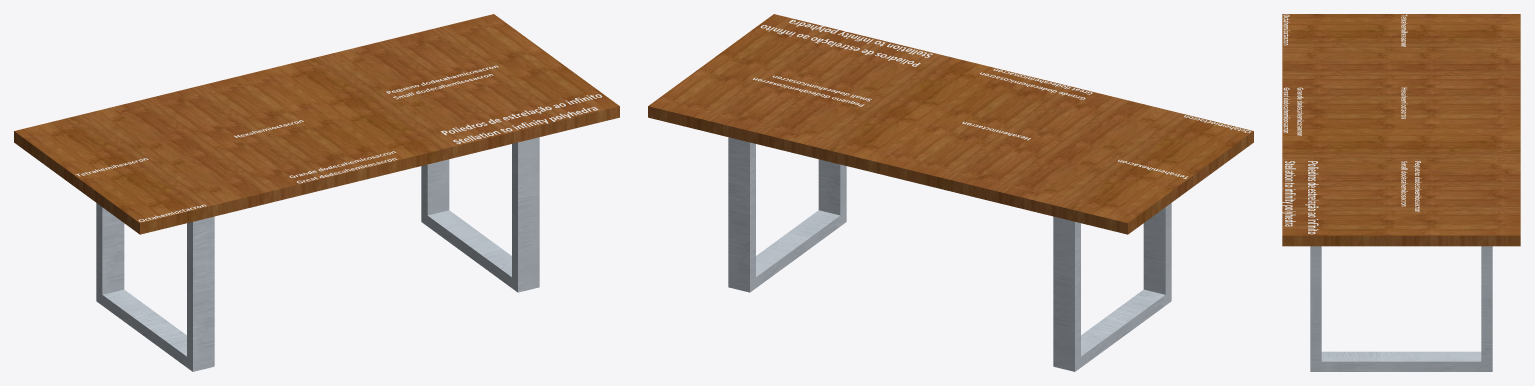
The model's file is infinity1.glb.
3 views of the same model, side by side, from view 1: azimuth 30°, elevation 25°; view 2: azimuth 150°, elevation 25°; view 3: azimuth 270°, elevation 25° (orthographic). The views are drawn at different scales.
Visible parts, largest first — view 1: root; view 2: root; view 3: root.
Boxes of the visible parts, <box> form: root: <box>14,14,619,371</box>; root: <box>648,14,1253,371</box>; root: <box>1282,14,1520,371</box>.
Bounding box in the file's own units: 2.2 × 0.7711 × 1.
3 materials, 2 textured.
